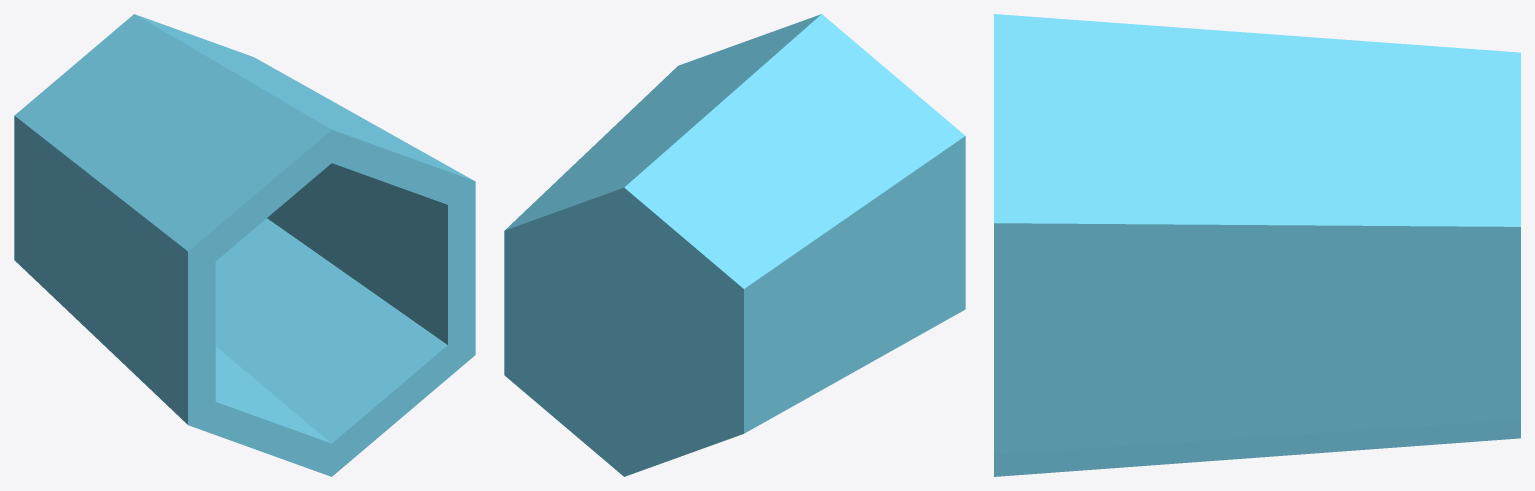
The model's file is JarVisual.obj.
3 views of the same model, side by side, from view 1: azimuth 30°, elevation 25°; view 2: azimuth 150°, elevation 25°; view 3: azimuth 270°, elevation 25° (orthographic). The views are drawn at different scales.
Parts seen in each view (by area): view 1: glass; view 2: glass; view 3: glass.
Boxes of the visible parts, x1=… form: glass: x1=14, y1=14, x2=475, y2=476; glass: x1=504, y1=14, x2=965, y2=476; glass: x1=994, y1=14, x2=1520, y2=476.
Bounding box in the file's own units: 0.1197 × 0.1382 × 0.1426.
